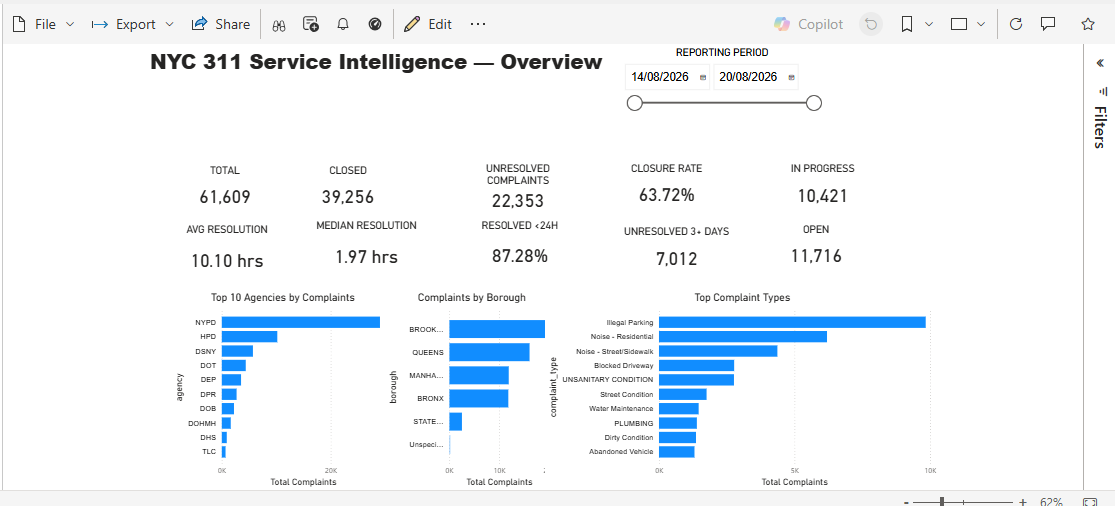

Layout of this report page (visuals, bound fields, positions):
{"tool":"powerbi","page":{"name":"311 Service Overview","canvas":[1280,720],"ordinal":0},"visuals":[{"type":"card","title":"TOTAL","fields":{"Values":["civicpulse311_powerbi.Total Complaints"]},"box":[38.2,193.2,174.1,82.8],"z":0},{"type":"card","title":"CLOSED","fields":{"Values":["civicpulse311_powerbi.Closed Complaints"]},"box":[237.7,193.2,174.1,82.8],"z":1000},{"type":"card","title":"UNRESOLVED COMPLAINTS","fields":{"Values":["civicpulse311_powerbi.Unresolved Complaints"]},"box":[511.6,191,174.1,82.8],"z":2000},{"type":"card","title":"CLOSURE RATE","fields":{"Values":["civicpulse311_powerbi.Closure Rate %"]},"box":[751.4,191,176.2,82.8],"z":3000},{"type":"card","title":"OPEN","fields":{"Values":["civicpulse311_powerbi.Open Complaints"]},"box":[1001.9,288.7,155,82.8],"z":4000},{"type":"card","title":"IN PROGRESS","fields":{"Values":["civicpulse311_powerbi.In Progress Complaints"]},"box":[1001.9,191,176.2,84.9],"z":5000},{"type":"card","title":"AVG RESOLUTION","fields":{"Values":["civicpulse311_powerbi.Average Resolution Hours"]},"box":[38.2,288.7,180.4,97.6],"z":6000},{"type":"card","title":"MEDIAN RESOLUTION","fields":{"Values":["civicpulse311_powerbi.Median Resolution Hours"]},"box":[237.7,282.3,233.5,97.6],"z":7000},{"type":"card","title":"RESOLVED <24H","fields":{"Values":["civicpulse311_powerbi.Resolved Within 24 Hours %"]},"box":[498.8,282.3,205.9,95.5],"z":8000},{"type":"card","title":"UNRESOLVED 3+ DAYS","fields":{"Values":["civicpulse311_powerbi.Unresolved 3 Plus Days"]},"box":[751.4,292.9,208,84.9],"z":9000},{"type":"clusteredBarChart","title":"Top 10 Agencies by Complaints","fields":{"Category":["civicpulse311_powerbi.agency"],"Y":["civicpulse311_powerbi.Total Complaints"]},"box":[38.2,399.1,360.9,320.5],"z":10000},{"type":"clusteredBarChart","title":"Complaints by Borough","fields":{"Category":["civicpulse311_powerbi.borough"],"Y":["civicpulse311_powerbi.Total Complaints"]},"box":[384.2,399.1,280.2,320.5],"z":11000},{"type":"clusteredBarChart","title":"Top Complaint Types","fields":{"Category":["civicpulse311_powerbi.complaint_type"],"Y":["civicpulse311_powerbi.Total Complaints"]},"box":[643.2,399.1,636.8,320.5],"z":12000},{"type":"textbox","box":[0,0,756.1,58.5],"z":13000},{"type":"slicer","title":"REPORTING PERIOD","fields":{"Values":["civicpulse311_powerbi.created_date"]},"box":[758.5,2.4,339,109.8],"z":14000}]}

Visuals, with their boxes on the page's 1280x720 design canvas (x1, y1, x2, y2). These are canvas units, not pixel positions in the 1115x506 screenshot, which may show the page scaled, cropped or inside an application window:
"TOTAL" card: [38,193,212,276]
"CLOSED" card: [238,193,412,276]
"UNRESOLVED COMPLAINTS" card: [512,191,686,274]
"CLOSURE RATE" card: [751,191,928,274]
"OPEN" card: [1002,289,1157,372]
"IN PROGRESS" card: [1002,191,1178,276]
"AVG RESOLUTION" card: [38,289,219,386]
"MEDIAN RESOLUTION" card: [238,282,471,380]
"RESOLVED <24H" card: [499,282,705,378]
"UNRESOLVED 3+ DAYS" card: [751,293,959,378]
"Top 10 Agencies by Complaints" clusteredBarChart: [38,399,399,720]
"Complaints by Borough" clusteredBarChart: [384,399,664,720]
"Top Complaint Types" clusteredBarChart: [643,399,1280,720]
textbox: [0,0,756,58]
"REPORTING PERIOD" slicer: [758,2,1098,112]
